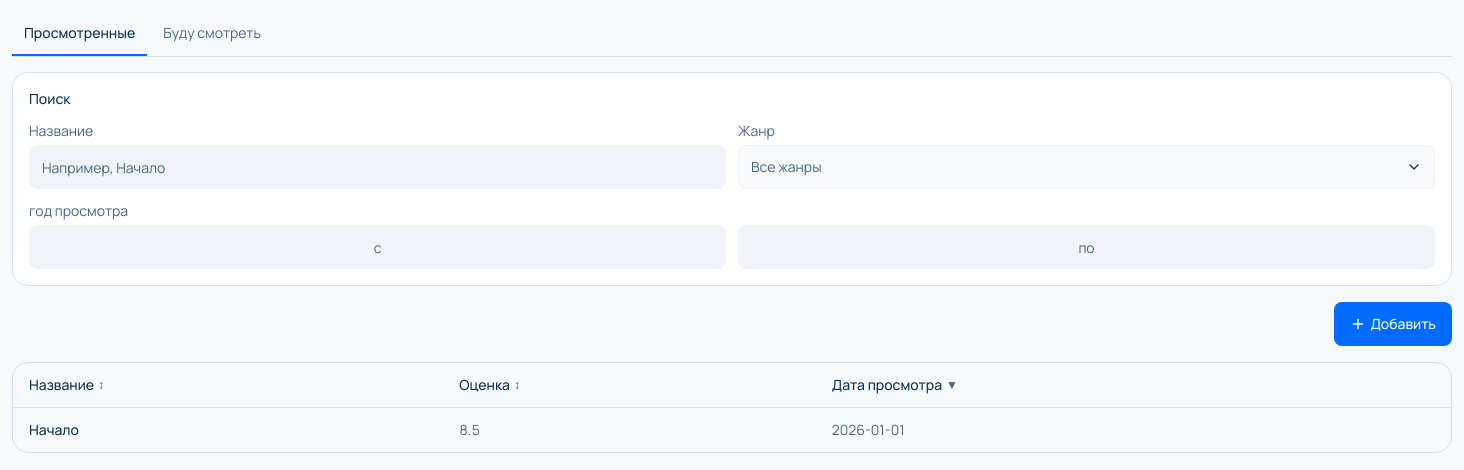
it: MyFilmsView watch-later tab › shows an empty state when the list is empty
This screenshot has width=1464, height=470.
Click the tab "Буду смотреть" at {"x": 212, "y": 34}, box [151,12,273,56]
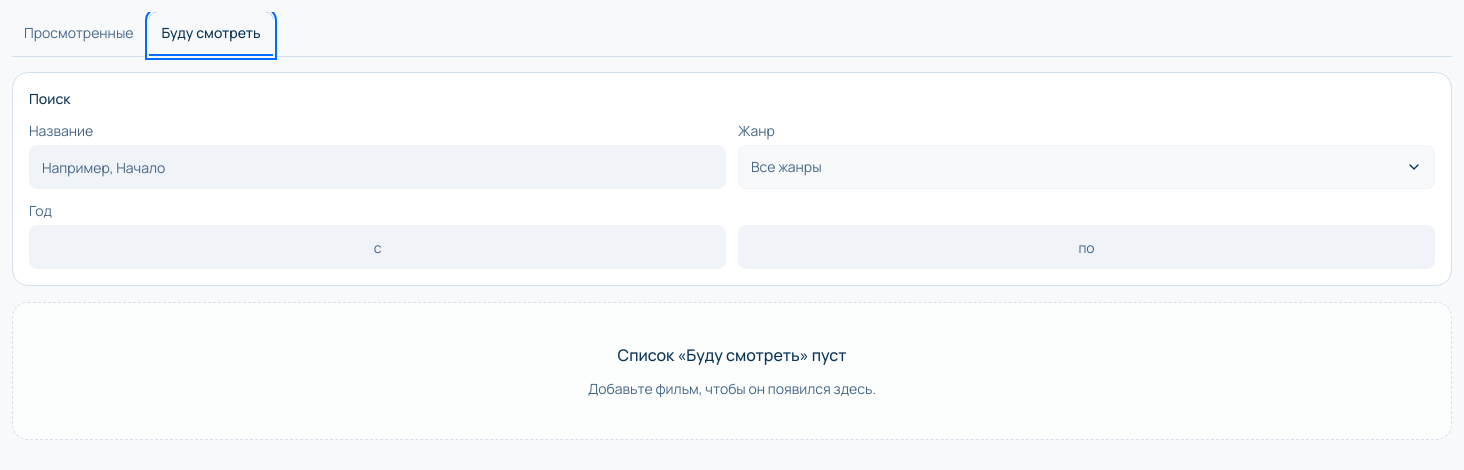
Now the text "Список «Буду смотреть» пуст" is shown, box [618,343,846,367]
